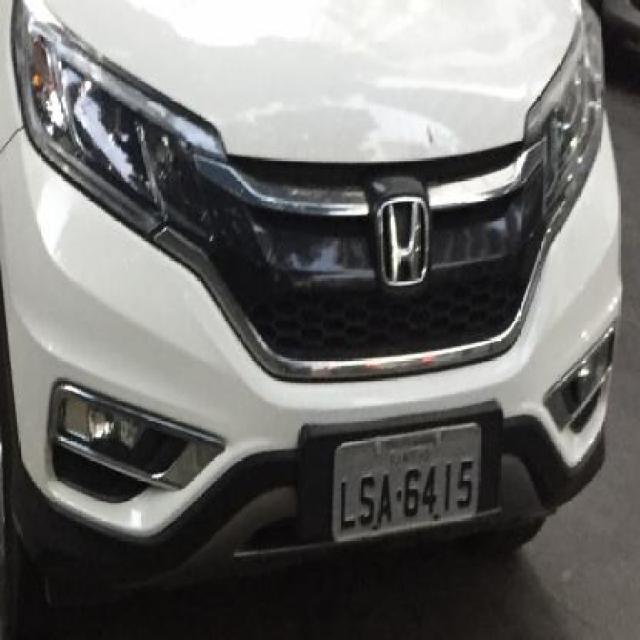old_plate: (324, 415, 494, 550)
